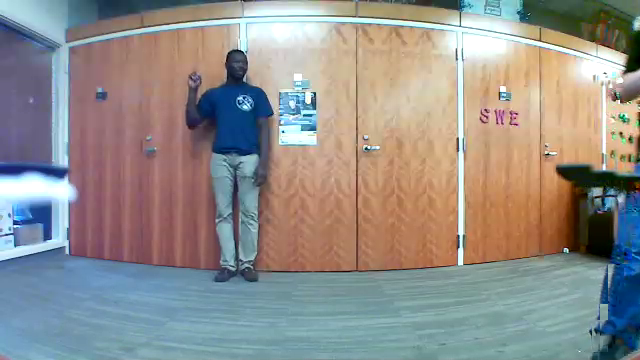up: (186, 61, 203, 91)
